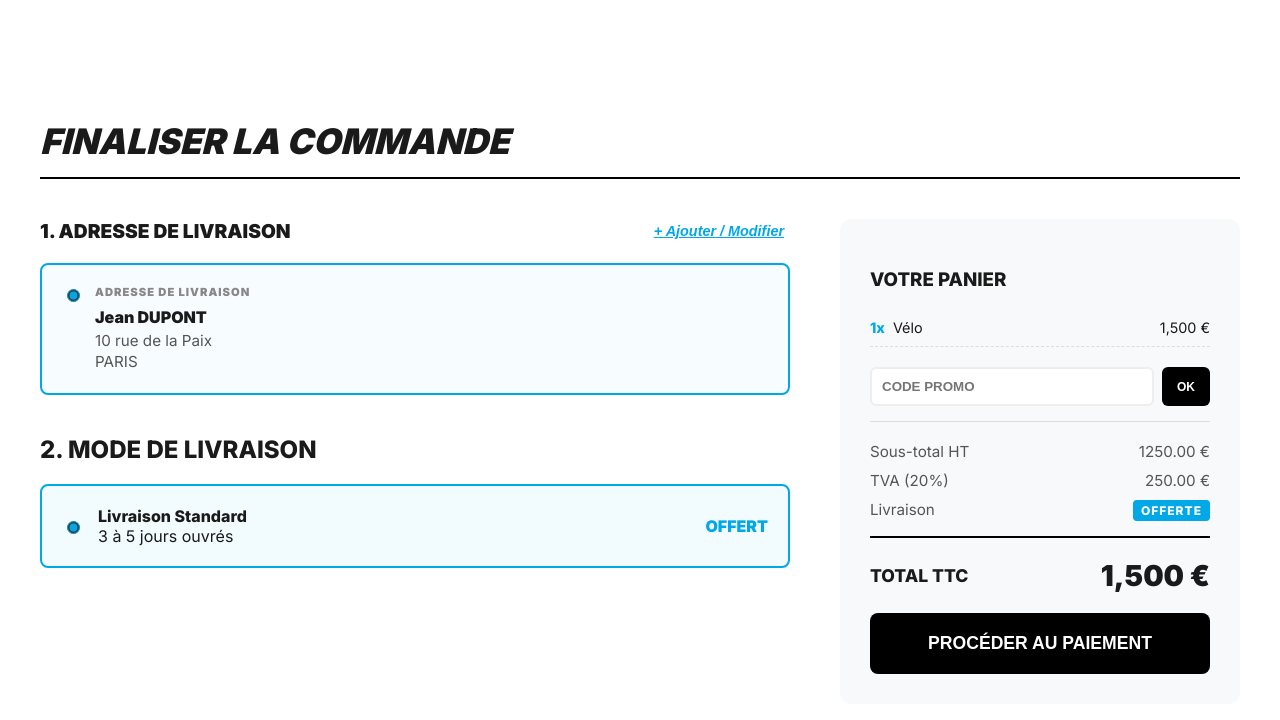
Test case: Payment.vue › ouvre la modale de paiement au clic sur le bouton
The image size is (1280, 720).
Click the button "PROCÉDER AU PAIEMENT": (1040, 644) x1=870 y1=613 x2=1210 y2=674
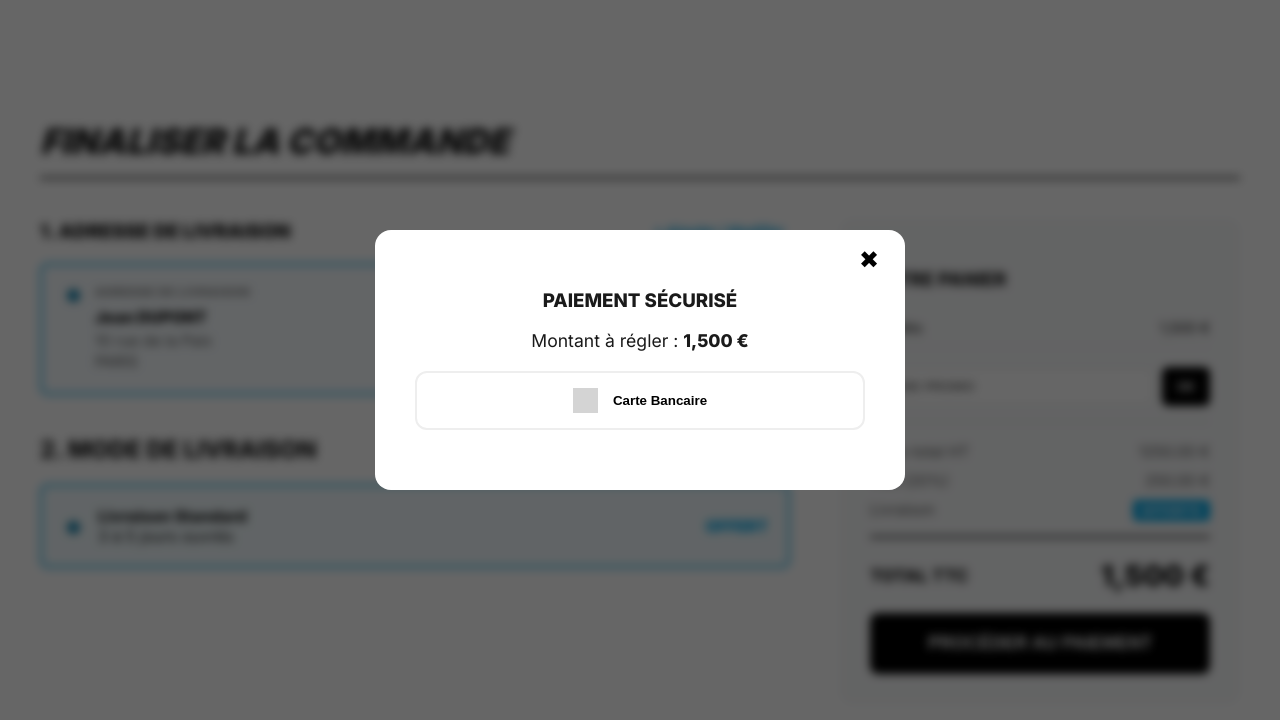
Result: the text "PAIEMENT SÉCURISÉ" is shown at x1=543 y1=288 x2=737 y2=312
Result: the button with class "stripe-btn" is shown at x1=415 y1=371 x2=865 y2=430
